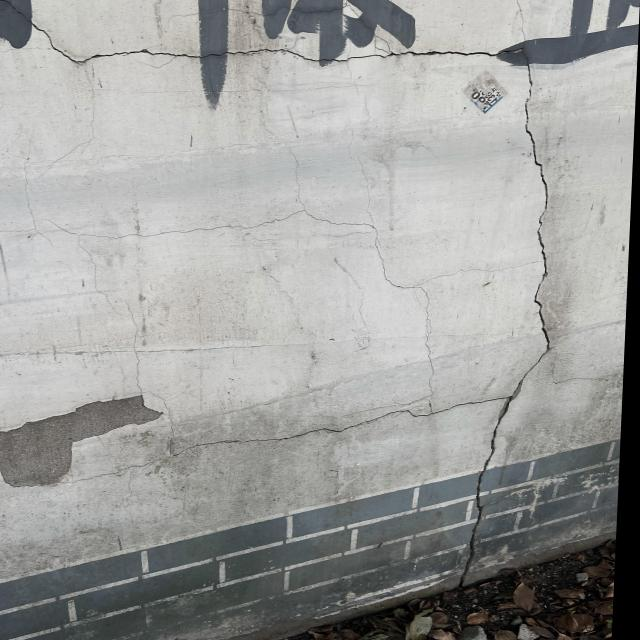spalling: (0, 3, 558, 590), (0, 379, 176, 483)
